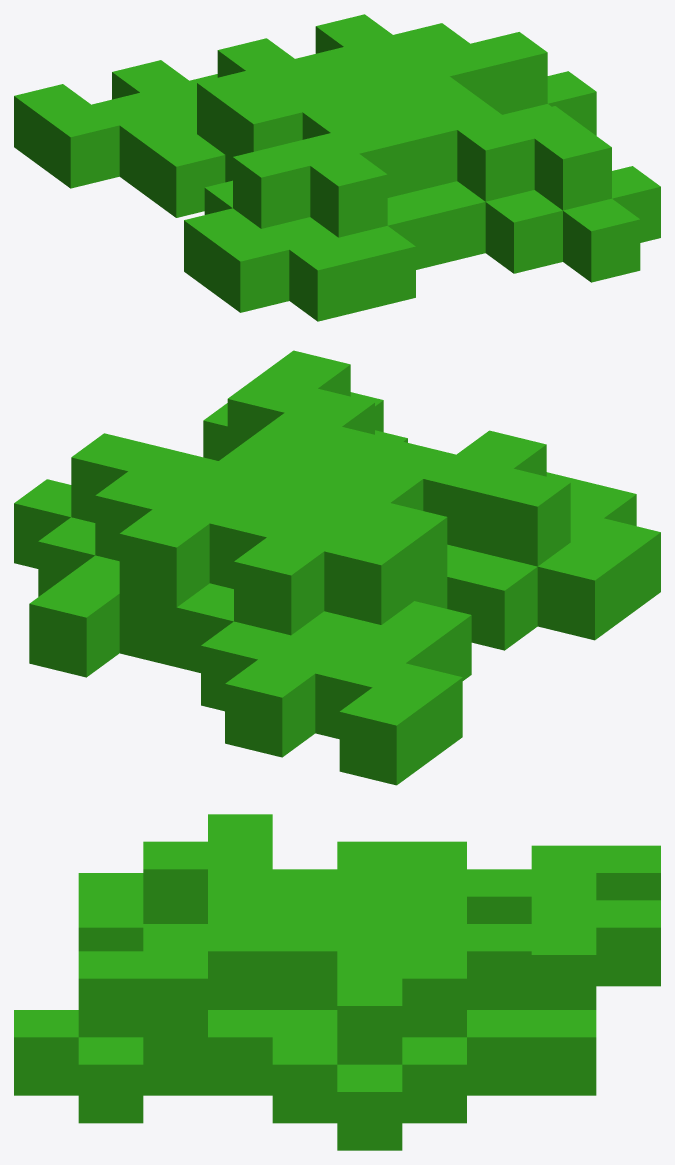
Rendered from Slime-trail-proto.obj.
3 views of the same model, one above another, from view 1: azimuth 30°, elevation 25°; view 2: azimuth 150°, elevation 25°; view 3: azimuth 270°, elevation 25° (orthographic). The views are drawn at different scales.
Bounding box in the file's own units: 0.9 × 0.2 × 1.
Materials: 1 (1 with a texture image).
